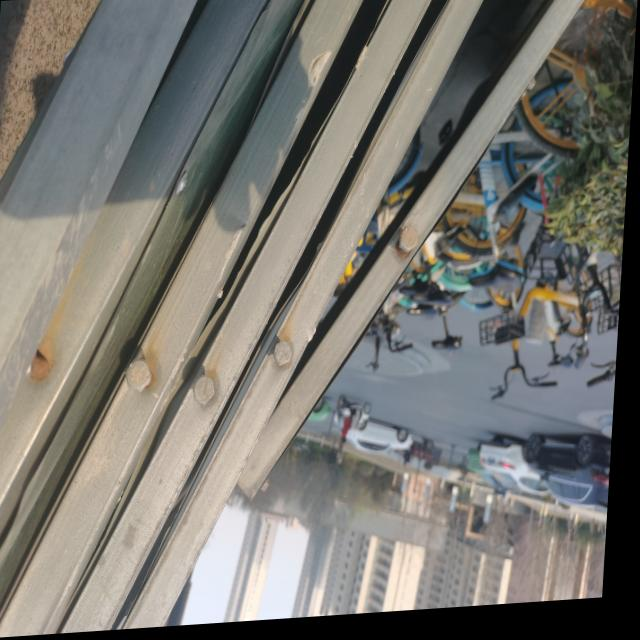Regular bolt: (129, 360, 156, 396), (197, 377, 221, 410), (401, 231, 423, 259), (277, 345, 298, 372)
